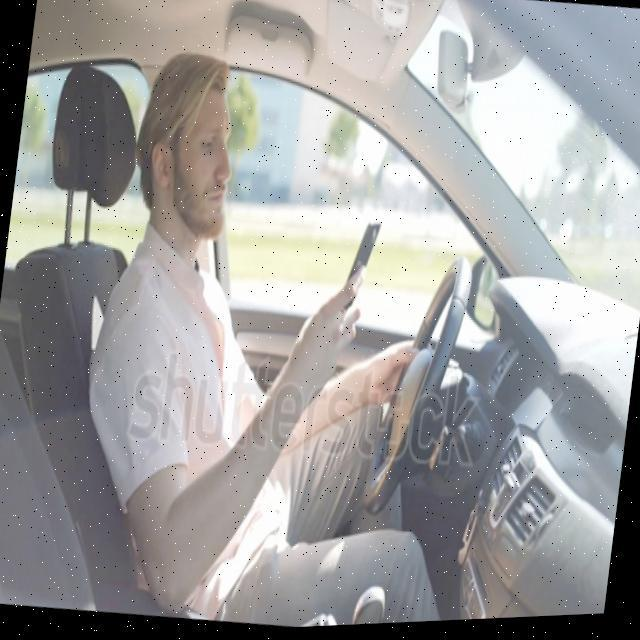PhoneCall: (338, 222, 383, 336)
